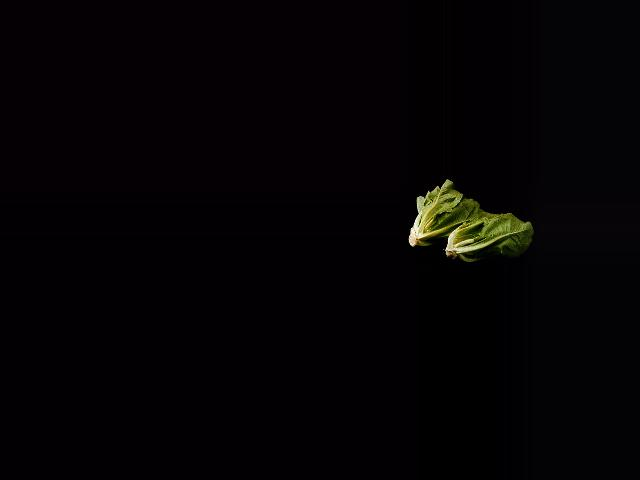lettuce: (408, 180, 495, 256)
